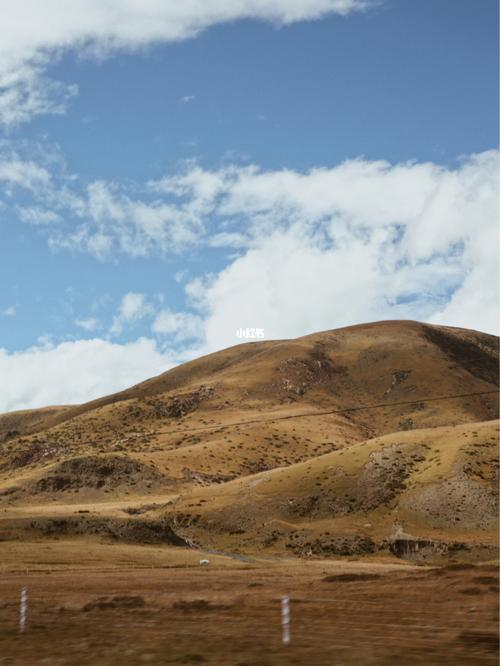mountain: (9, 321, 490, 519)
sky_cloud: (10, 65, 476, 358)
